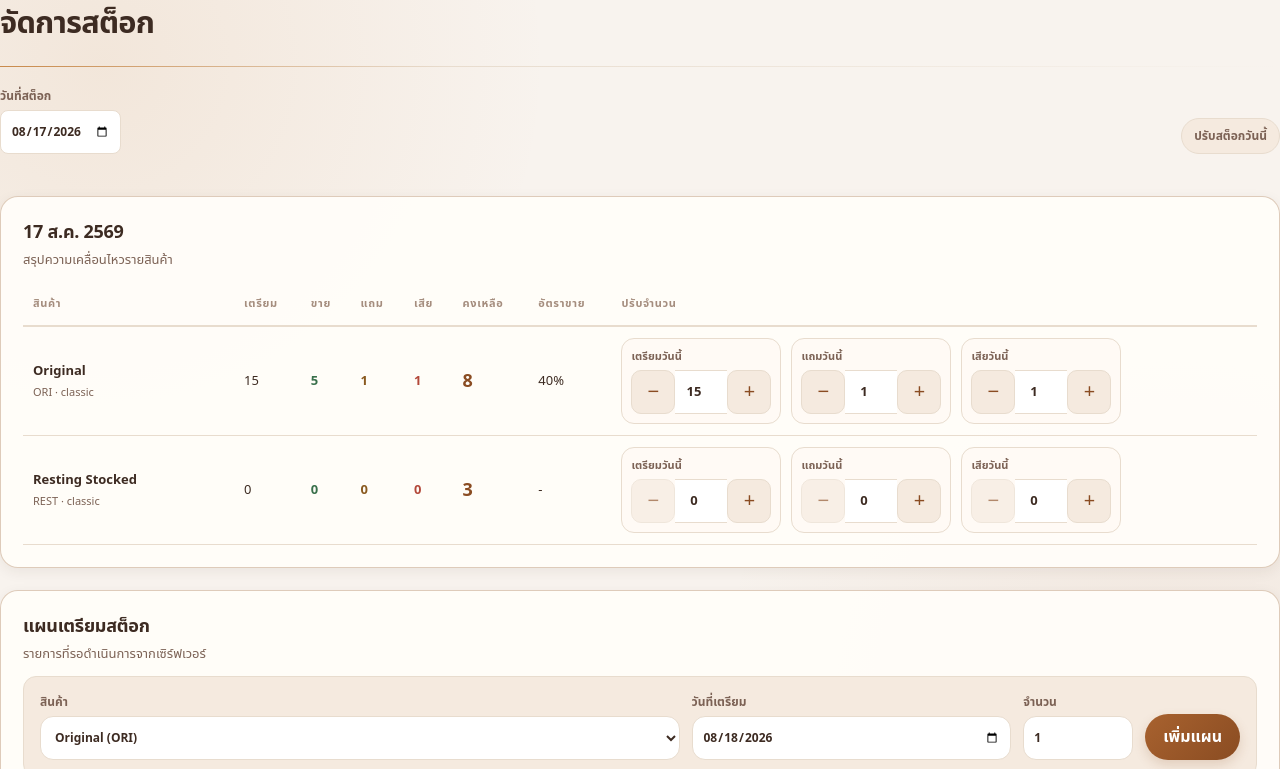
StockPage › submits เพิ่มเตรียมวันนี้ Original once and updates the row from the confirmed stock
The width and height of the screenshot is (1280, 769).
Step 1. Click the button named "เพิ่มเตรียมวันนี้ Original" → (749, 392), box [727,370,771,414]
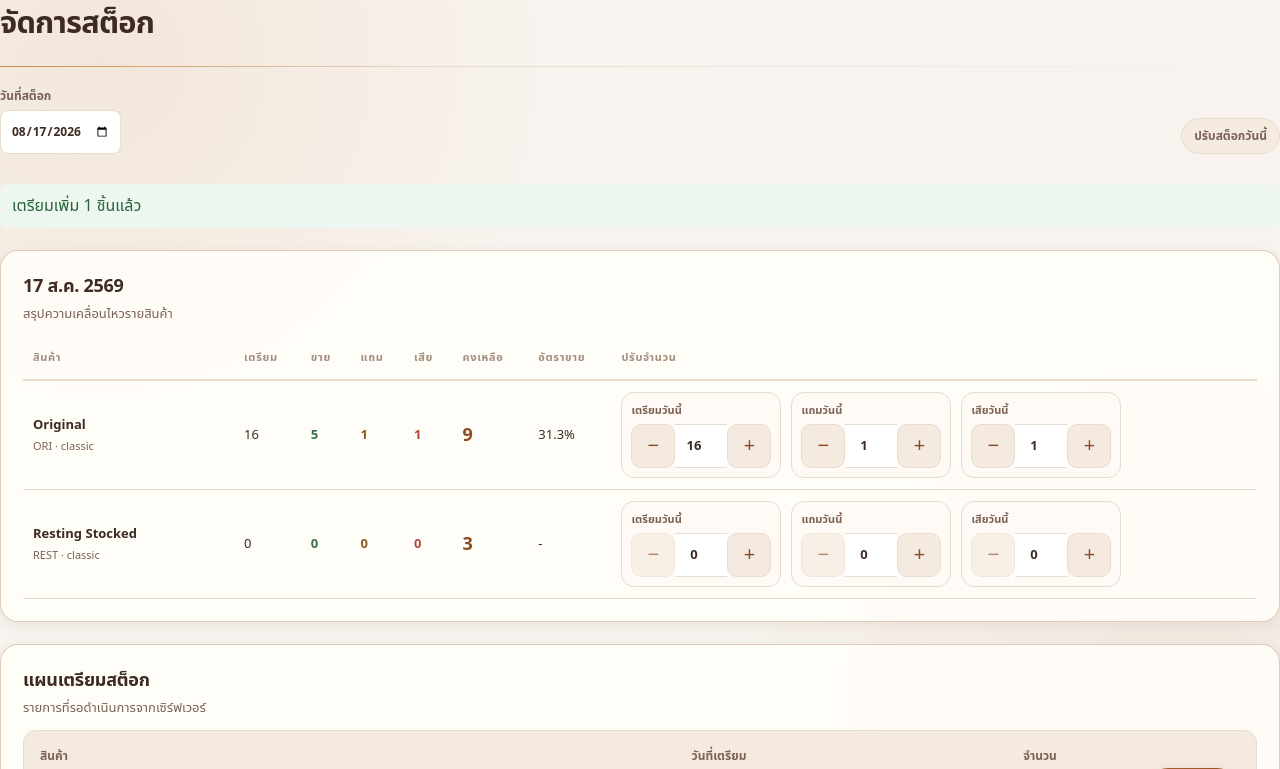
Check: the message shows "1 ชิ้นแล้ว", box [12,194,141,218]
Check: the cell with class "stock-balance-value" reads "9", box [462,422,473,448]
